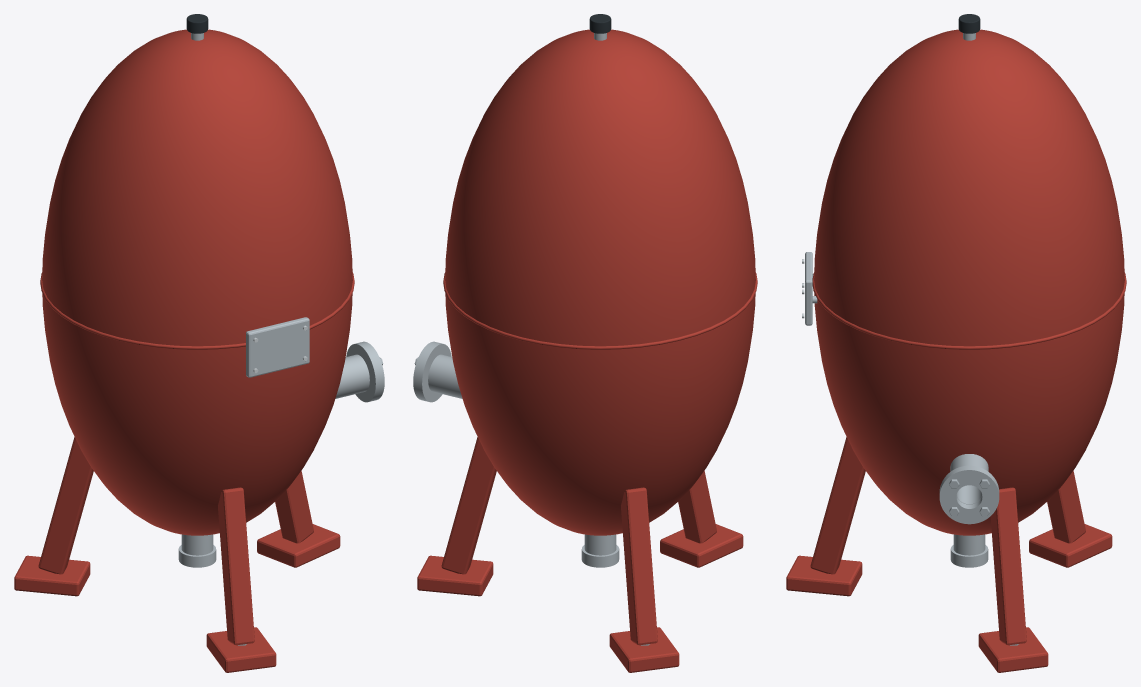
Rendered from city-closed-expansion-vessel.glb.
3 views of the same model, side by side, from view 1: azimuth 30°, elevation 25°; view 2: azimuth 150°, elevation 25°; view 3: azimuth 270°, elevation 25° (orthographic).
Visible parts, largest first — view 1: Assembly | Red vessel enamel, Assembly | Satin machined steel; view 2: Assembly | Red vessel enamel, Assembly | Satin machined steel; view 3: Assembly | Red vessel enamel, Assembly | Satin machined steel.
Boxes of the visible parts, bbox=[...] form: Assembly | Red vessel enamel: bbox=[14, 29, 354, 672]; Assembly | Satin machined steel: bbox=[178, 33, 384, 645]; Assembly | Red vessel enamel: bbox=[417, 29, 757, 672]; Assembly | Satin machined steel: bbox=[413, 33, 649, 645]; Assembly | Red vessel enamel: bbox=[786, 29, 1126, 672]; Assembly | Satin machined steel: bbox=[805, 33, 1018, 645].
Size of the model in its own units: 0.7696 by 1.36 by 0.7274.
